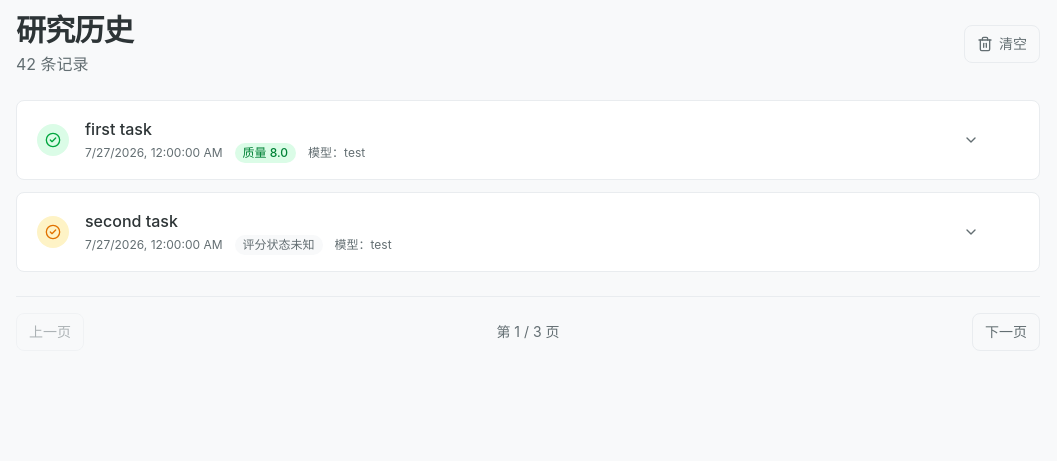
it: HistoryPage › does not let an older detail request replace the latest selection
What coordinates should you click on to do the following:
click the heading "first task"
I would click on:
 (118, 129)
Its box is [85,119,152,139].
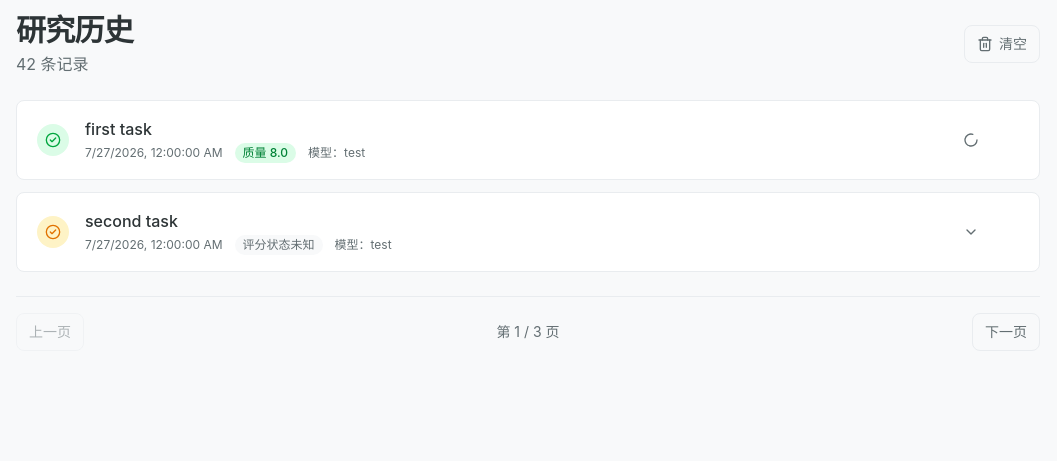
What coordinates should you click on to do the following:
click the heading "second task"
I would click on:
 (131, 221)
Its box is [85,211,178,231].
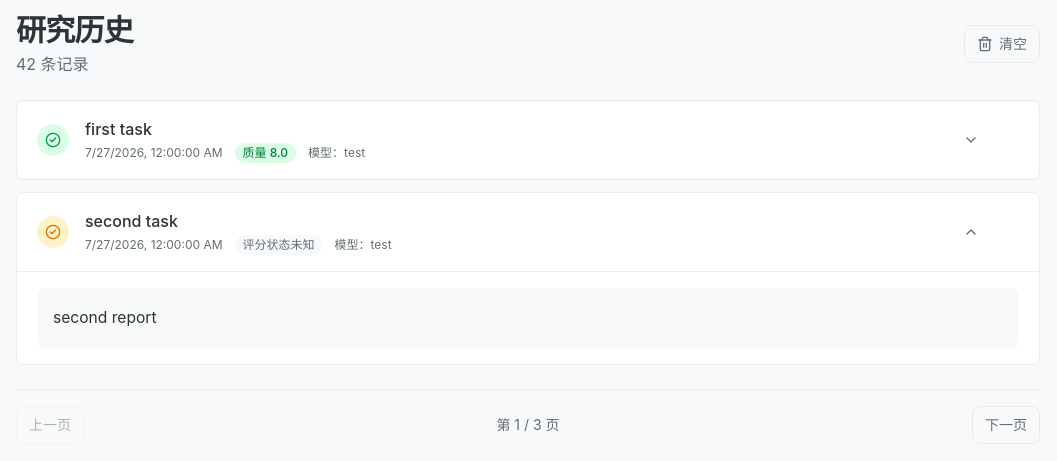
Expected: the text "second report" is shown, [53,308,156,327]
